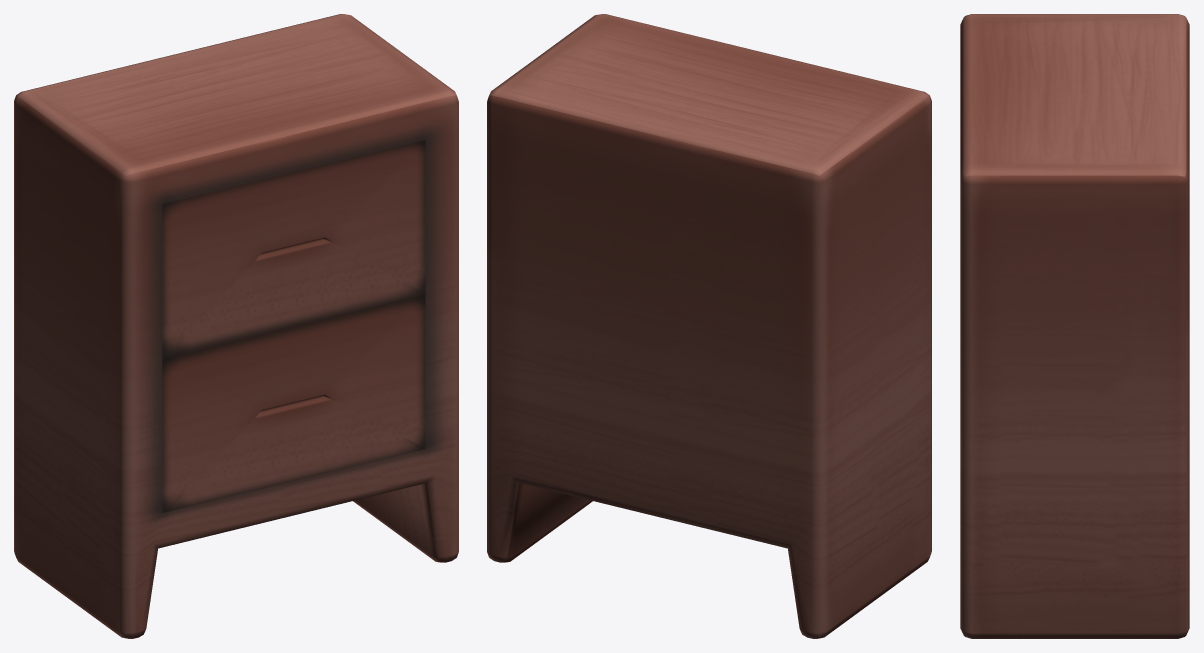
Rendered from Desk_Base.fbx.
3 renders of one model, left to right at view 1: azimuth 30°, elevation 25°; view 2: azimuth 150°, elevation 25°; view 3: azimuth 270°, elevation 25°, orthographic.
Visible parts, largest first — view 1: Desk_mesh; view 2: Desk_mesh; view 3: Desk_mesh.
Part boxes in pixels (x1,y1,x2,y2): Desk_mesh: (14,14,458,638); Desk_mesh: (487,14,931,638); Desk_mesh: (960,14,1189,638).
Bounding box in the file's own units: 5.32 × 7.07 × 3.13.
1 material, 1 textured.
